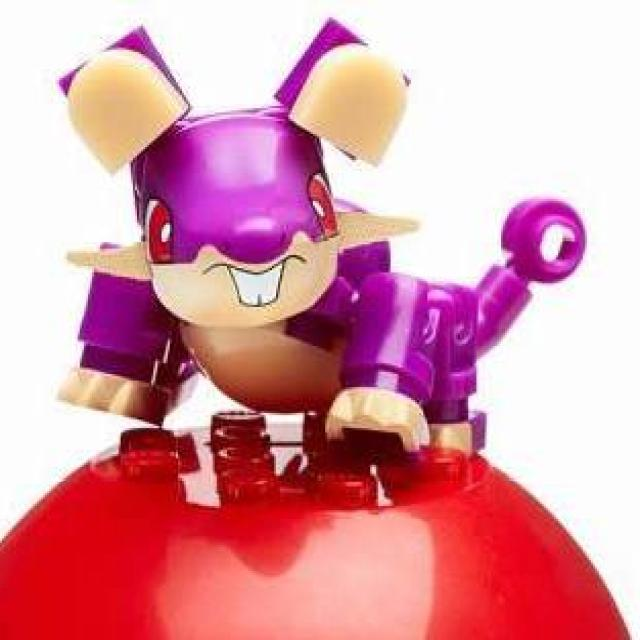Rattata: (40, 57, 530, 476)
